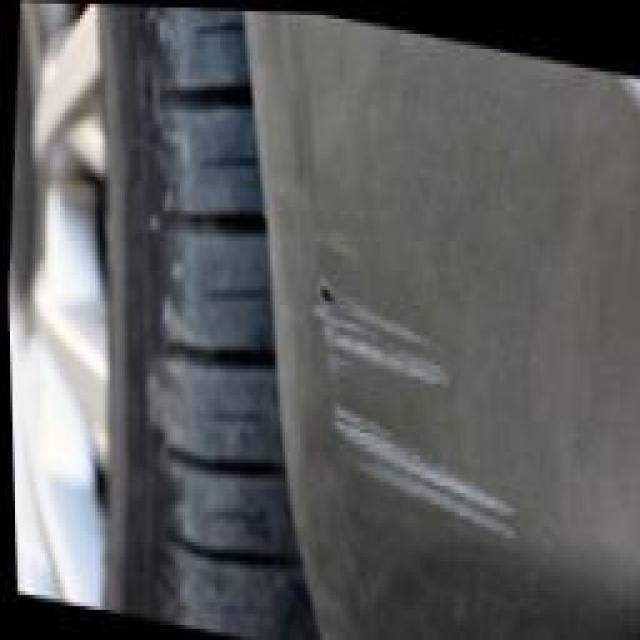Bumper: (222, 87, 620, 640)
